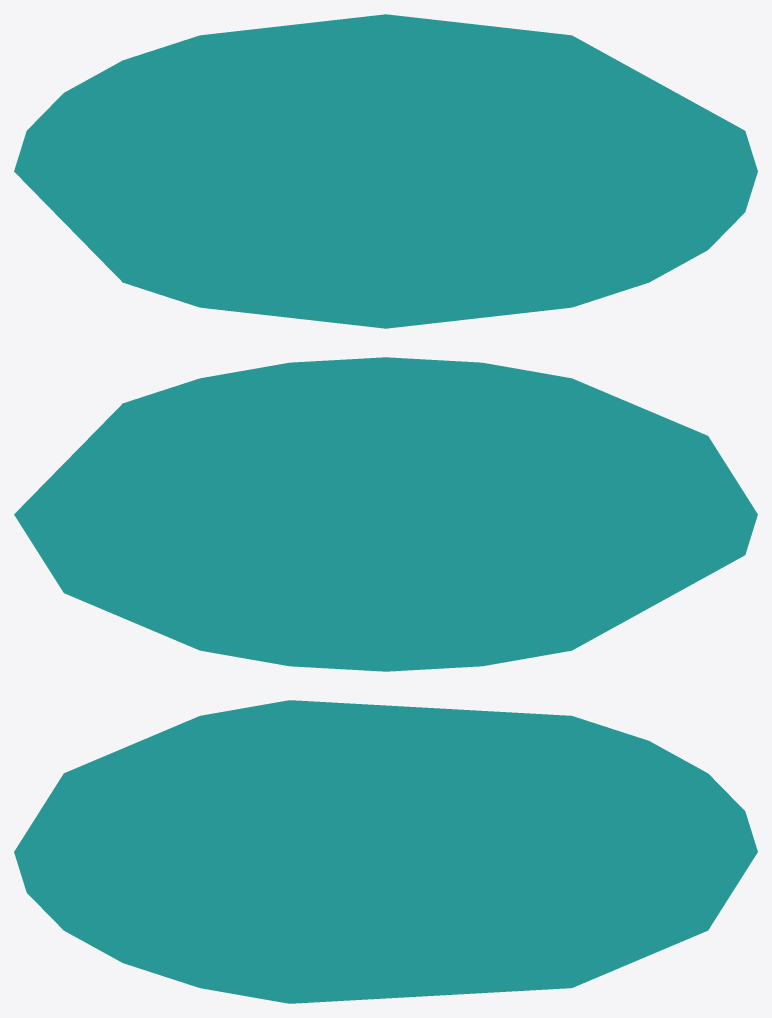
Rendered from frog_color_6.fbx.
3 renders of one model, top to bottom at view 1: azimuth 30°, elevation 25°; view 2: azimuth 150°, elevation 25°; view 3: azimuth 270°, elevation 25°, orthographic.
Parts seen in each view (by area): view 1: frog_color_6; view 2: frog_color_6; view 3: frog_color_6.
Boxes of the visible parts, x1=… form: frog_color_6: x1=14, y1=14, x2=757, y2=328; frog_color_6: x1=14, y1=357, x2=757, y2=671; frog_color_6: x1=14, y1=700, x2=757, y2=1003.
Size of the model in its own units: 20.41 by 0 by 21.13.
